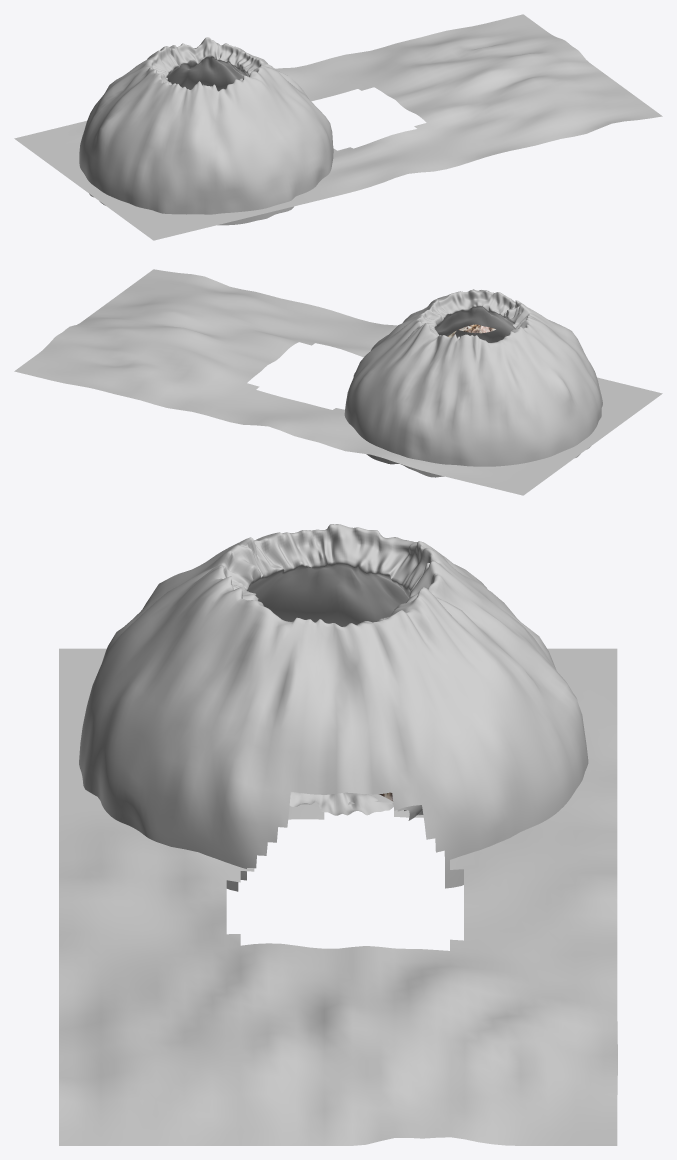
Rendered from Caverna de Corais.fbx.
3 views of the same model, one above another, from view 1: azimuth 30°, elevation 25°; view 2: azimuth 150°, elevation 25°; view 3: azimuth 270°, elevation 25° (orthographic). The views are drawn at different scales.
Parts seen in each view (by area): view 1: pPlane1, pCone3; view 2: pPlane1, pCone3; view 3: pPlane1, pCone3.
Part boxes in pixels (<box>): pPlane1: <box>14,14,662,240</box>; pCone3: <box>79,37,333,225</box>; pPlane1: <box>14,269,662,495</box>; pCone3: <box>344,289,602,477</box>; pPlane1: <box>59,648,617,1145</box>; pCone3: <box>79,524,588,891</box>.
Size of the model in its own units: 724 by 156 by 344.
